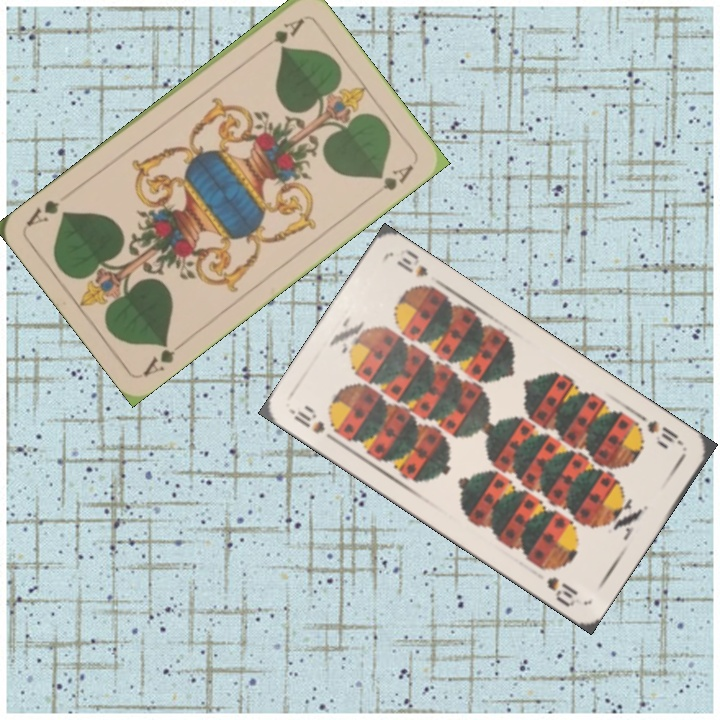GA: (138, 336, 189, 380), (256, 13, 307, 55)
S10: (288, 402, 341, 446), (643, 416, 686, 449)
